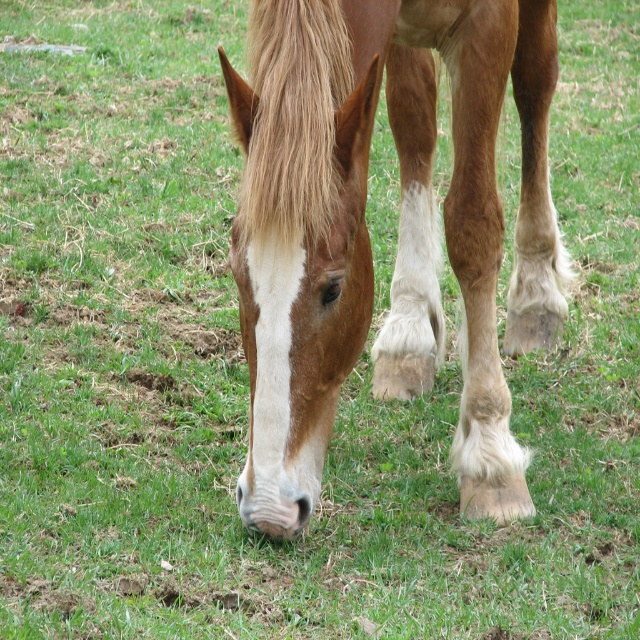Horse: (218, 0, 581, 545)
